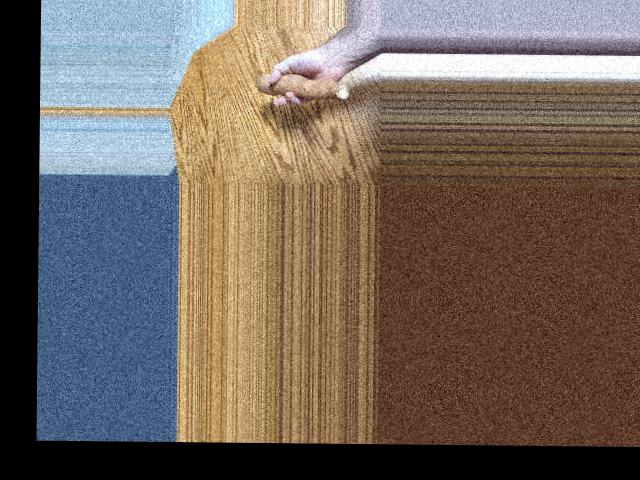sweet_potato: (251, 78, 353, 103)
